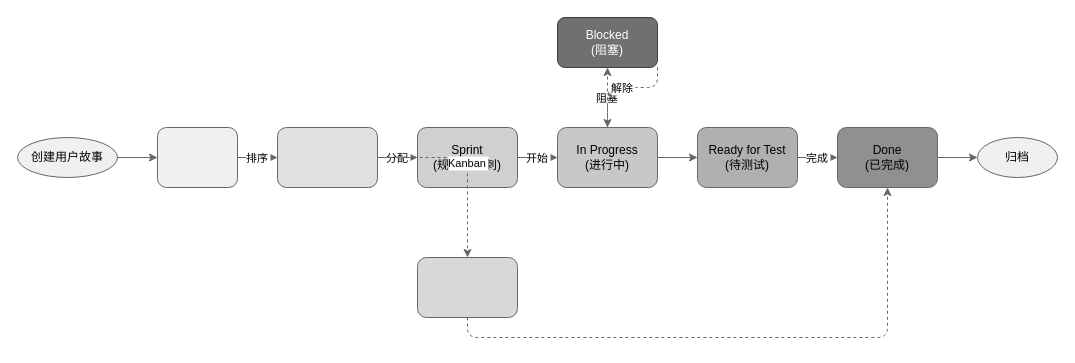
Some shapes in this 1075 by 363 pixel diagram are drawn without their labels. Each missing label, with the box of its shape:
Backlog (待办列表): (276, 126, 378, 188)
Kanban模式 (泳道流转): (416, 256, 518, 318)
New (新建): (156, 126, 238, 188)
